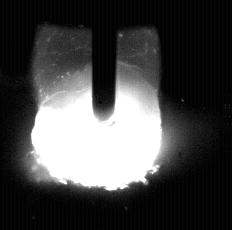arame: (93, 0, 116, 121)
poca: (33, 0, 161, 230)
